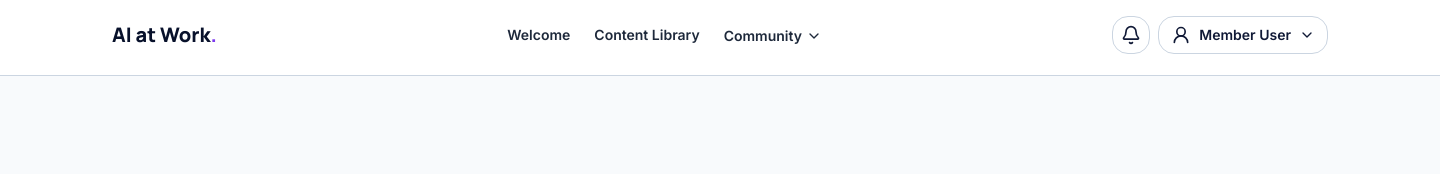
Test: shared Member Experience navigation › shows only Welcome, Content Library, and Community at the top level
Expected: the links read "Welcome", "Content Library", in this order, [507, 25, 570, 45]; [594, 25, 700, 45]
Expected: the text "Messages" is not shown
Click the button "Community" at [773, 36], box [724, 26, 822, 46]
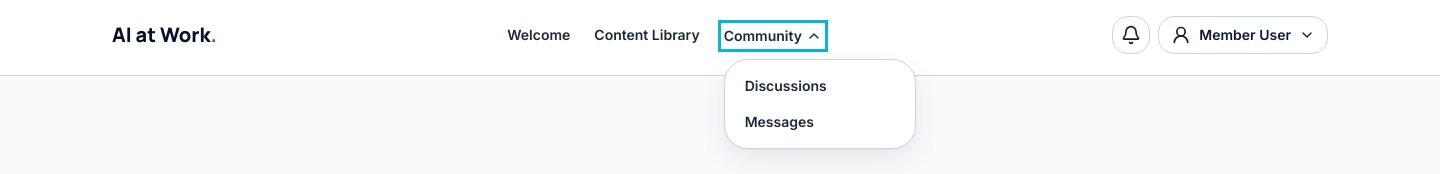
Now the menu item "Discussions" is shown, box [745, 77, 827, 94]
Now the menu item "Messages" is shown, box [745, 113, 814, 130]
